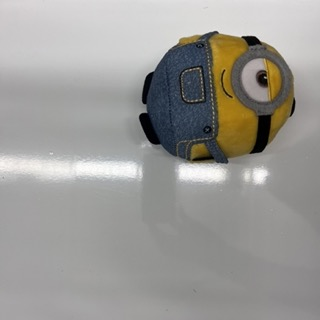minion: (140, 31, 296, 163)
